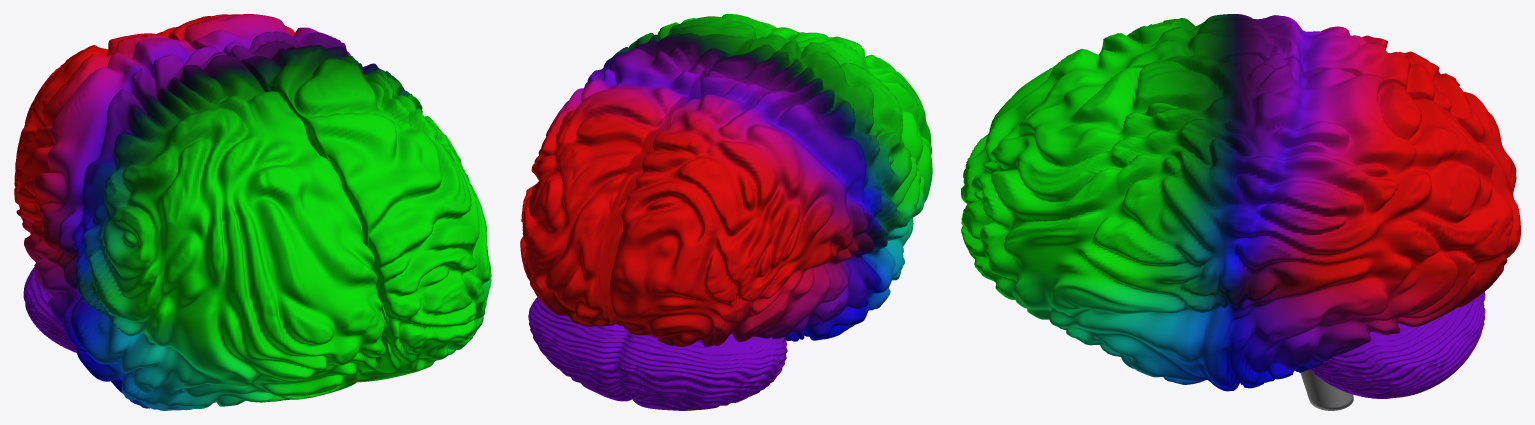
The model's file is neural-brain.glb.
The picture shows the model from 3 angles, left to right: view 1: azimuth 30°, elevation 25°; view 2: azimuth 150°, elevation 25°; view 3: azimuth 270°, elevation 25°; orthographic projection. The views are drawn at different scales.
Visible parts, largest first — view 1: Cortex_Left, Cortex_Right, Cerebellum; view 2: Cortex_Left, Cortex_Right, Cerebellum; view 3: Cortex_Right, Cortex_Left, Cerebellum, BrainStem.
Boxes of the visible parts, <box> form: Cortex_Left: <box>14,33,386,410</box>; Cortex_Right: <box>157,14,491,382</box>; Cerebellum: <box>23,267,77,352</box>; Cortex_Left: <box>610,32,932,346</box>; Cortex_Right: <box>520,14,799,326</box>; Cerebellum: <box>528,297,787,410</box>; Cortex_Right: <box>961,54,1520,391</box>; Cortex_Left: <box>961,14,1516,207</box>; Cerebellum: <box>1310,292,1485,398</box>; BrainStem: <box>1300,369,1353,410</box>.
Size of the model in its own units: 1.38 by 1.38 by 1.96.
